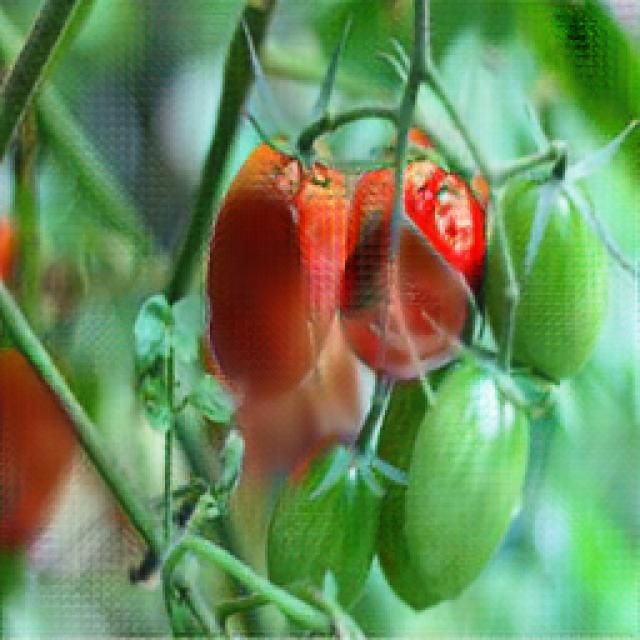overripe tomato: (204, 146, 345, 396), (332, 161, 484, 367)
